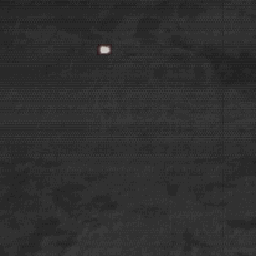Target: (97, 45, 110, 54)
